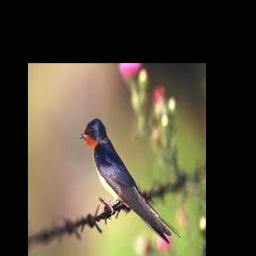Swallow: (79, 119, 181, 244)
